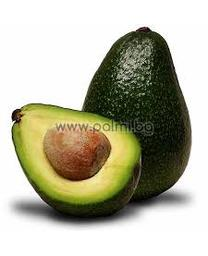avocado: (81, 30, 192, 206), (10, 103, 143, 220)
